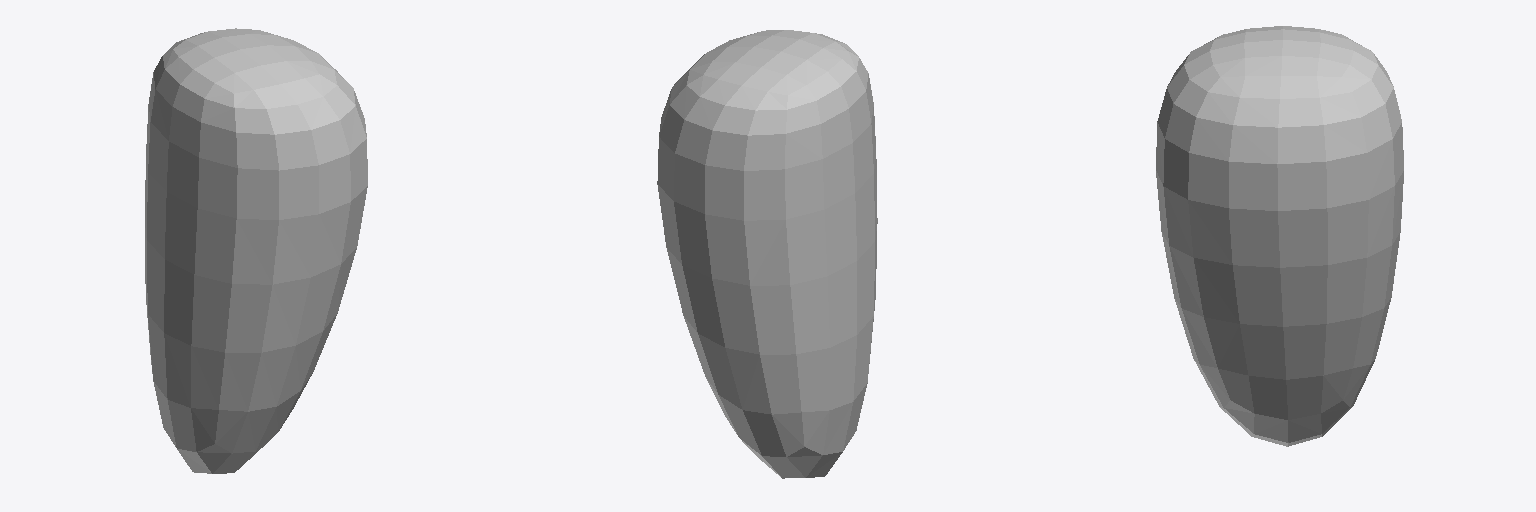
The model's file is robot_armR.obj.
3 renders of one model, left to right at view 1: azimuth 30°, elevation 25°; view 2: azimuth 150°, elevation 25°; view 3: azimuth 270°, elevation 25°, orthographic.
Visible parts, largest first — view 1: armr_Metal; view 2: armr_Metal; view 3: armr_Metal.
Boxes of the visible parts, box(x1,y1,x2,y2) form: armr_Metal: box(145, 28, 367, 473); armr_Metal: box(657, 30, 877, 478); armr_Metal: box(1156, 26, 1403, 446).
Size of the model in its own units: 0.7505 by 1.66 by 0.8925.